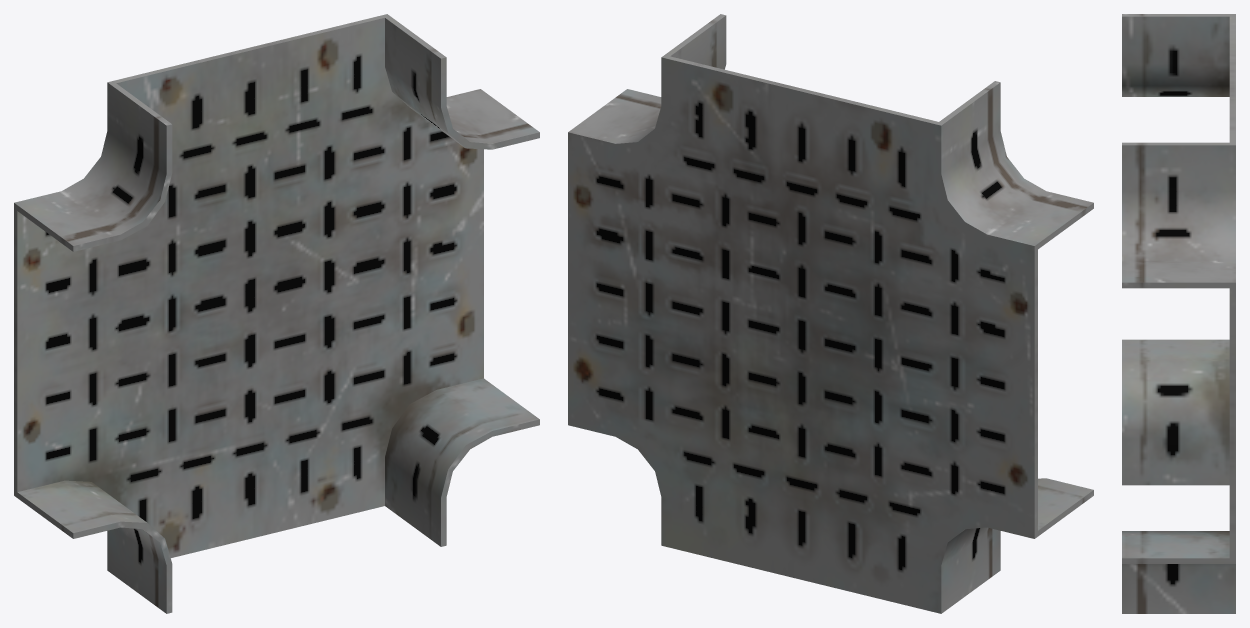
The model's file is CableTray_09a_snaps019.fbx.
3 views of the same model, side by side, from view 1: azimuth 30°, elevation 25°; view 2: azimuth 150°, elevation 25°; view 3: azimuth 270°, elevation 25° (orthographic). The views are drawn at different scales.
Parts seen in each view (by area): view 1: CableTray_09a_snaps019_LOD0; view 2: CableTray_09a_snaps019_LOD0; view 3: CableTray_09a_snaps019_LOD0.
Part boxes in pixels (<box>): CableTray_09a_snaps019_LOD0: <box>14,14,539,613</box>; CableTray_09a_snaps019_LOD0: <box>568,14,1093,613</box>; CableTray_09a_snaps019_LOD0: <box>1122,14,1235,613</box>.
Size of what is drawn, in the model's own units: 25 by 25 by 5.5.
